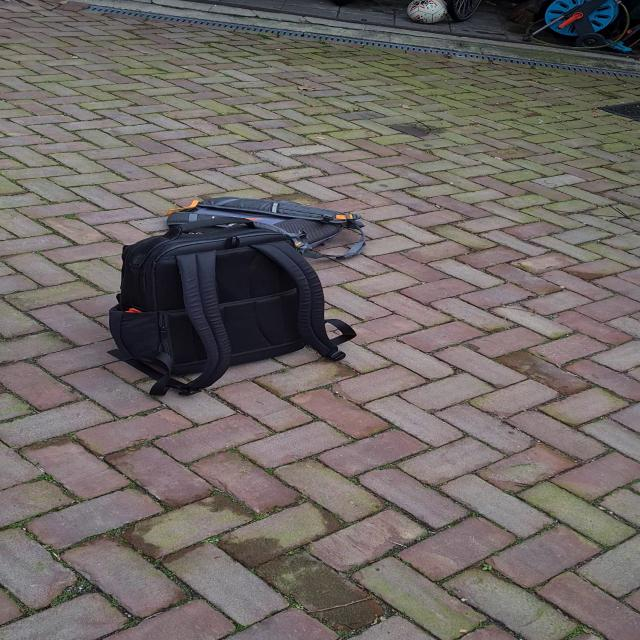backpack: (99, 192, 357, 398), (170, 194, 364, 260)
